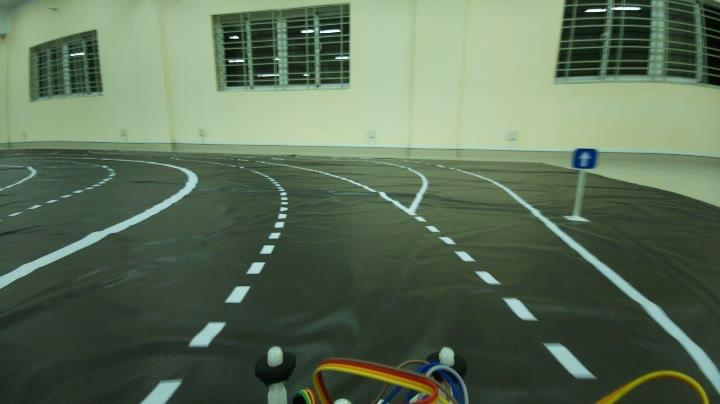onewayroad: (567, 138, 602, 178)
